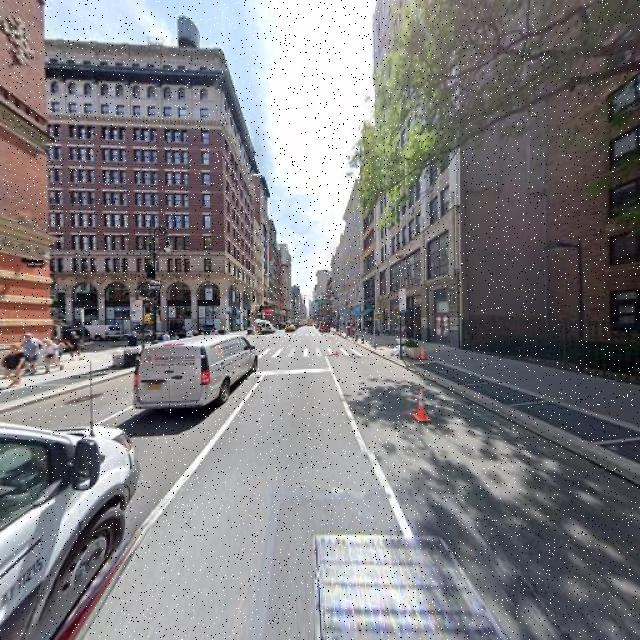Building: (52, 47, 254, 334), (379, 1, 455, 345), (589, 1, 640, 353), (1, 1, 37, 363)
